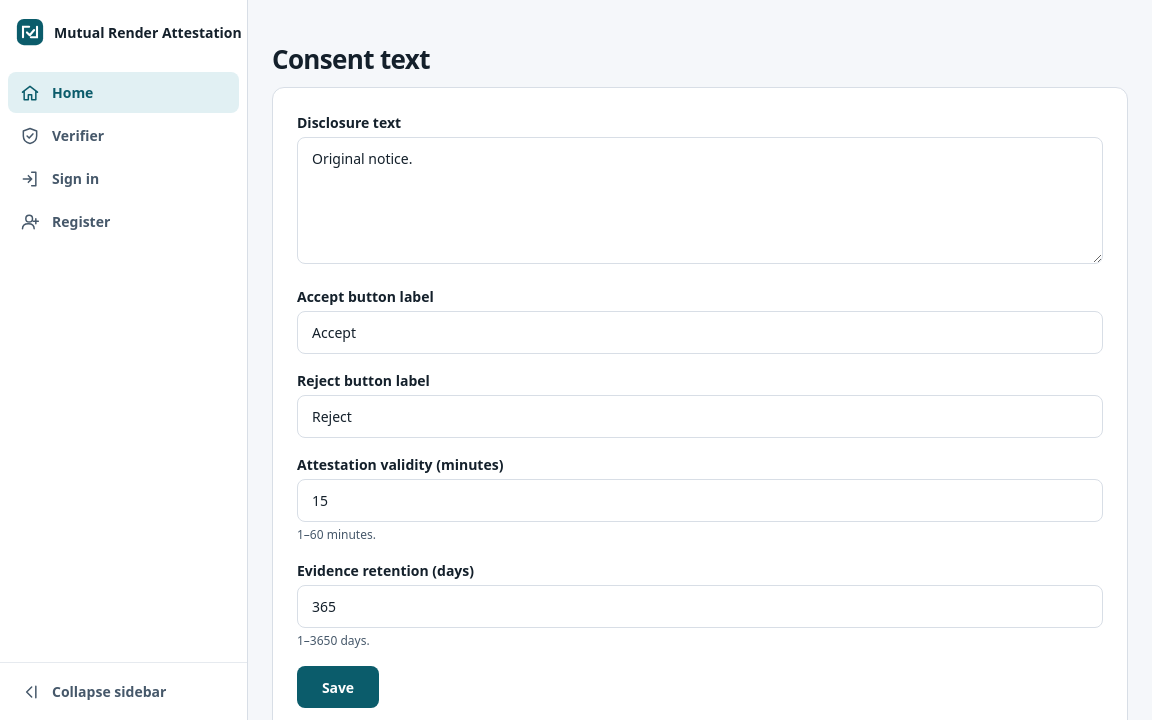
AdminConsent page › rejects Attestation validity (minutes) = 0 locally
The width and height of the screenshot is (1152, 720).
Replace the text in the number field labelled "Attestation validity (minutes)" with "0" at (700, 500), box [297, 479, 1103, 522]
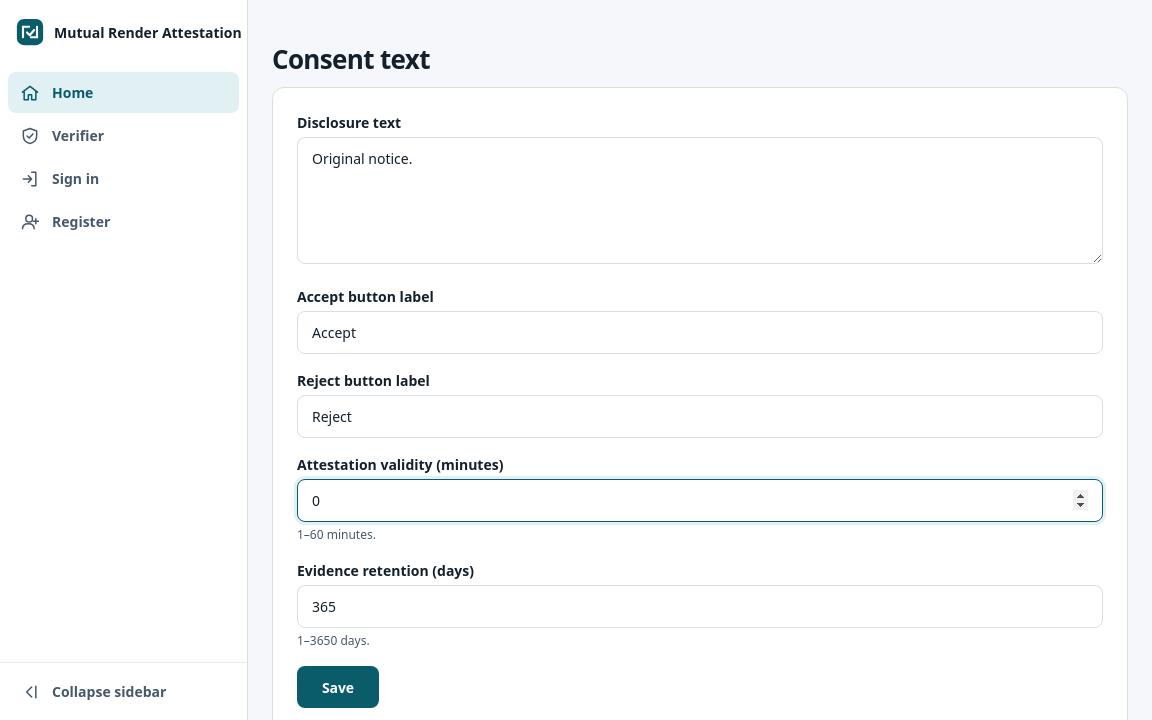
Click the button "Save".
click(338, 687)  # box [297, 666, 379, 708]
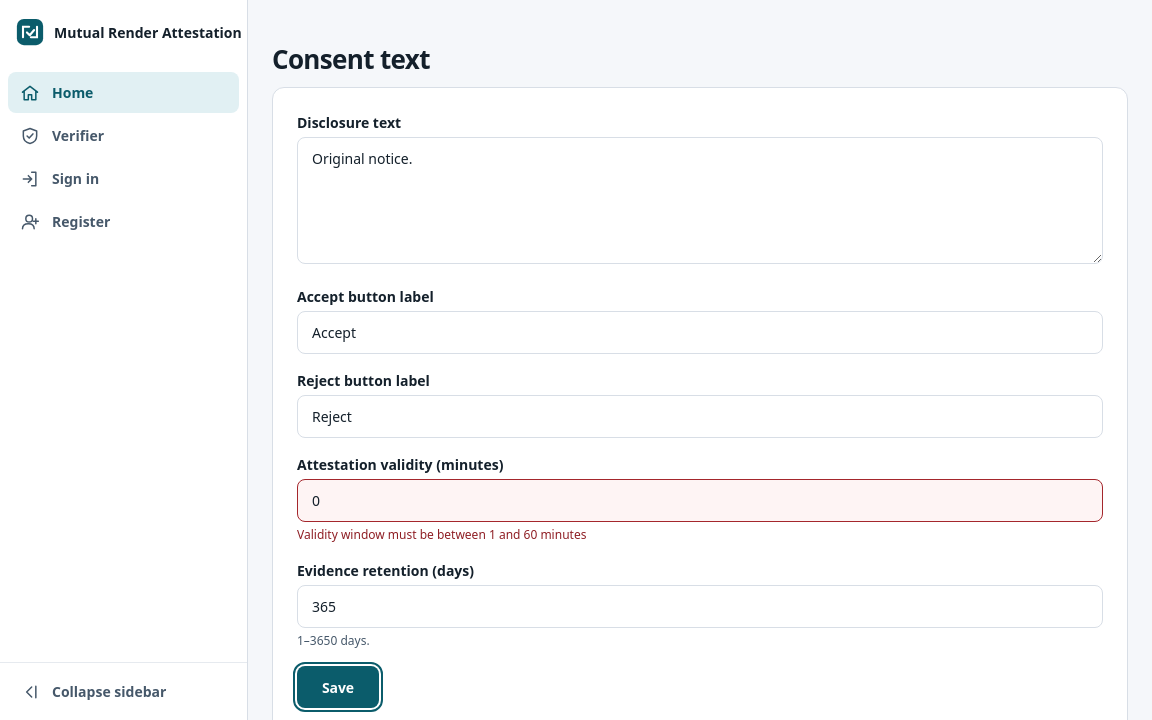
expect the text "Validity window must be between 1 and 60 minutes" is shown: met, box [297, 526, 586, 543]
